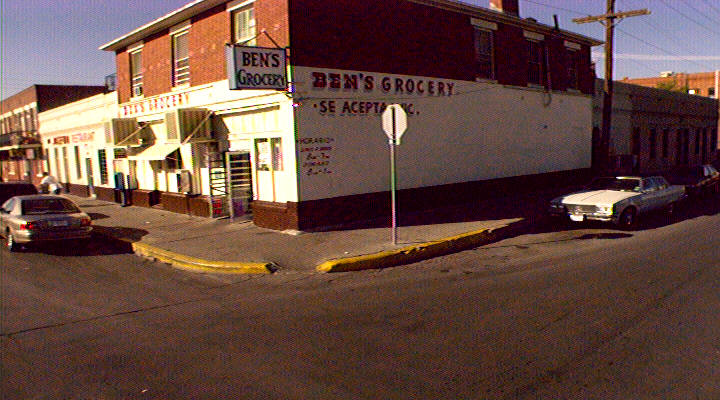Ramp: (246, 235, 348, 284)
